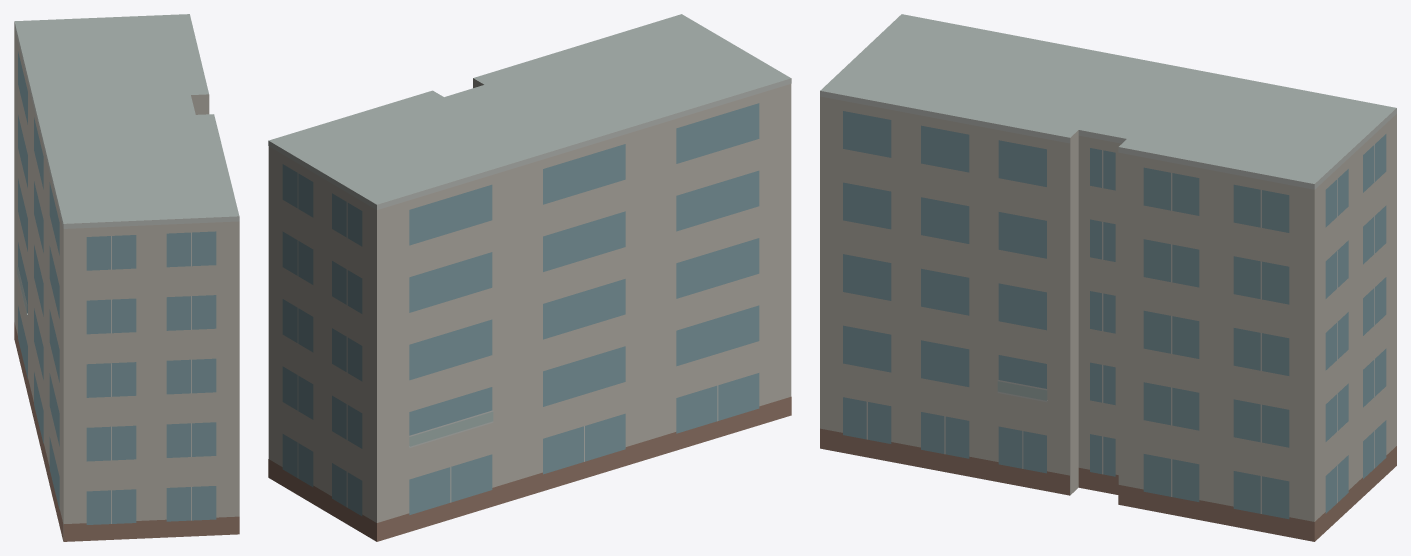
File: survey-upis-32556179.glb
3 views of the same model, side by side, from view 1: azimuth 30°, elevation 25°; view 2: azimuth 150°, elevation 25°; view 3: azimuth 270°, elevation 25° (orthographic). The views are drawn at different scales.
Visible parts, largest first — view 1: survey-upis-32556179.tmp; view 2: survey-upis-32556179.tmp; view 3: survey-upis-32556179.tmp.
Boxes of the visible parts, left/top/right/bottom form: survey-upis-32556179.tmp: left=14, top=14, right=239, bottom=541; survey-upis-32556179.tmp: left=268, top=14, right=791, bottom=541; survey-upis-32556179.tmp: left=820, top=14, right=1396, bottom=541.
Size of the model in its own units: 15.56 by 15.25 by 22.29.
